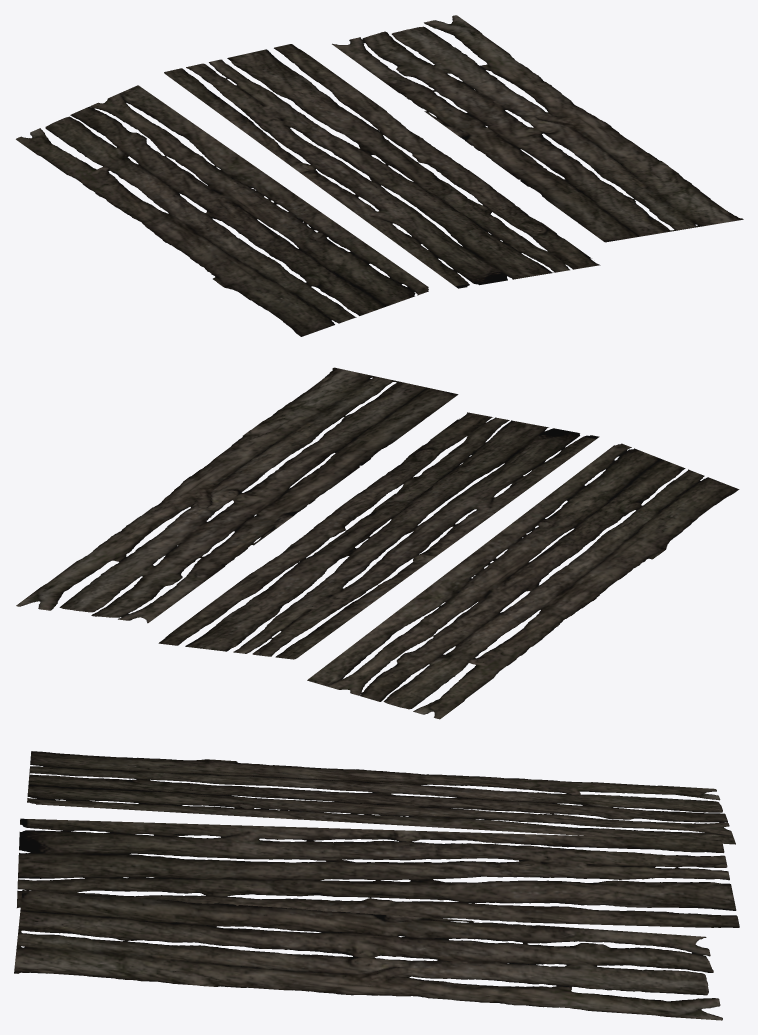
Rendered from MEP_Wall_04_LOD_01.fbx.
3 views of the same model, one above another, from view 1: azimuth 30°, elevation 25°; view 2: azimuth 150°, elevation 25°; view 3: azimuth 270°, elevation 25° (orthographic). The views are drawn at different scales.
Parts seen in each view (by area): view 1: MEP_Wall_04_LOD_01; view 2: MEP_Wall_04_LOD_01; view 3: MEP_Wall_04_LOD_01.
Boxes of the visible parts, left/top/right/bottom form: MEP_Wall_04_LOD_01: left=16, top=15, right=743, bottom=336; MEP_Wall_04_LOD_01: left=16, top=367, right=739, bottom=719; MEP_Wall_04_LOD_01: left=14, top=751, right=739, bottom=1020.
Size of the model in its own units: 4.51 by 0.4675 by 5.4.
